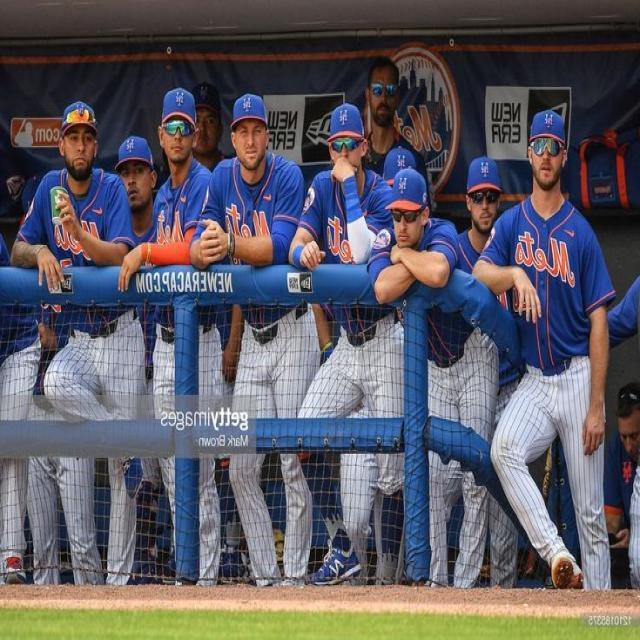hat: (392, 168, 426, 212), (526, 109, 568, 142), (329, 104, 364, 142), (115, 136, 154, 170), (161, 89, 195, 123), (231, 95, 268, 123)
